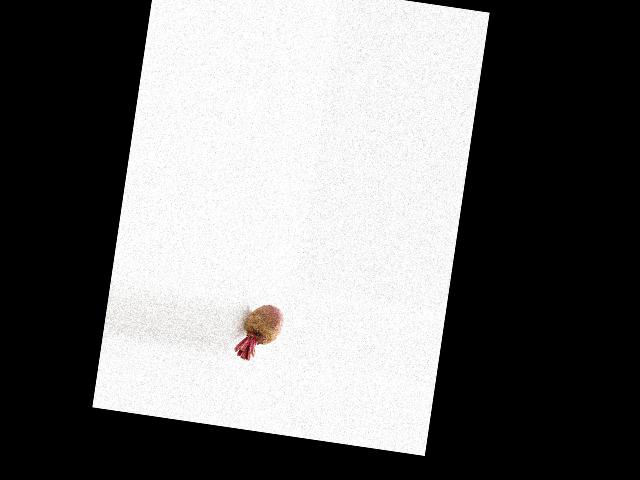beet: (232, 300, 285, 364)
